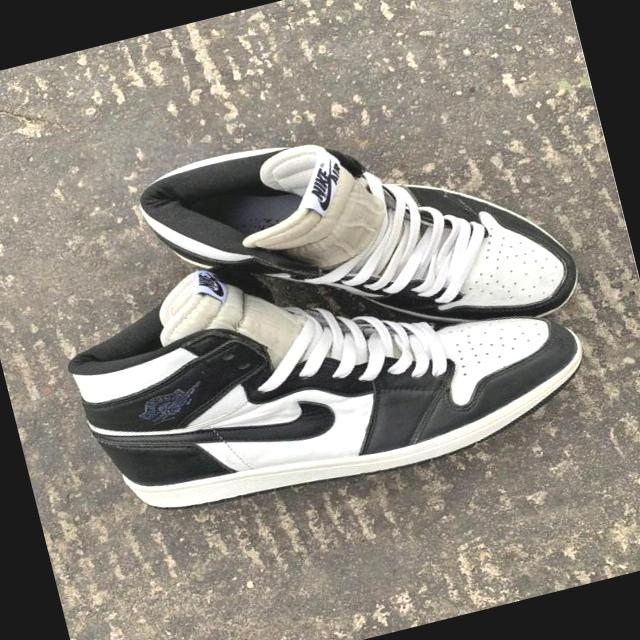nike_fake_jordan: (50, 180, 610, 542), (124, 74, 589, 408)
